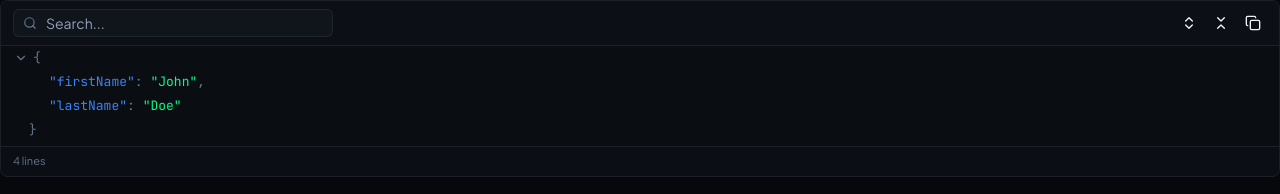
it: JsonViewer › search shows match count when query matches
The width and height of the screenshot is (1280, 194).
In the field with placeholder "Search...": (173, 23) [13,9,333,37], type "John"
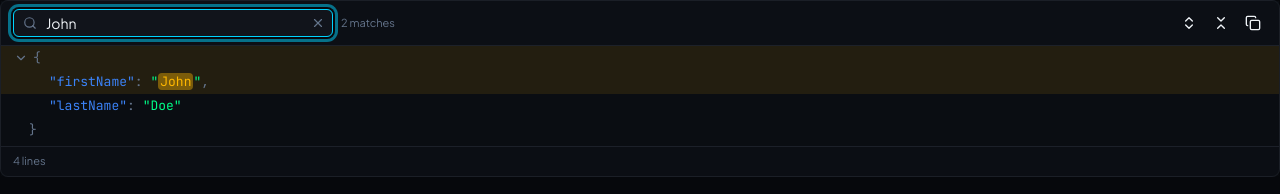
Expected: the text "2 matches" is shown, [341,15,395,31]
